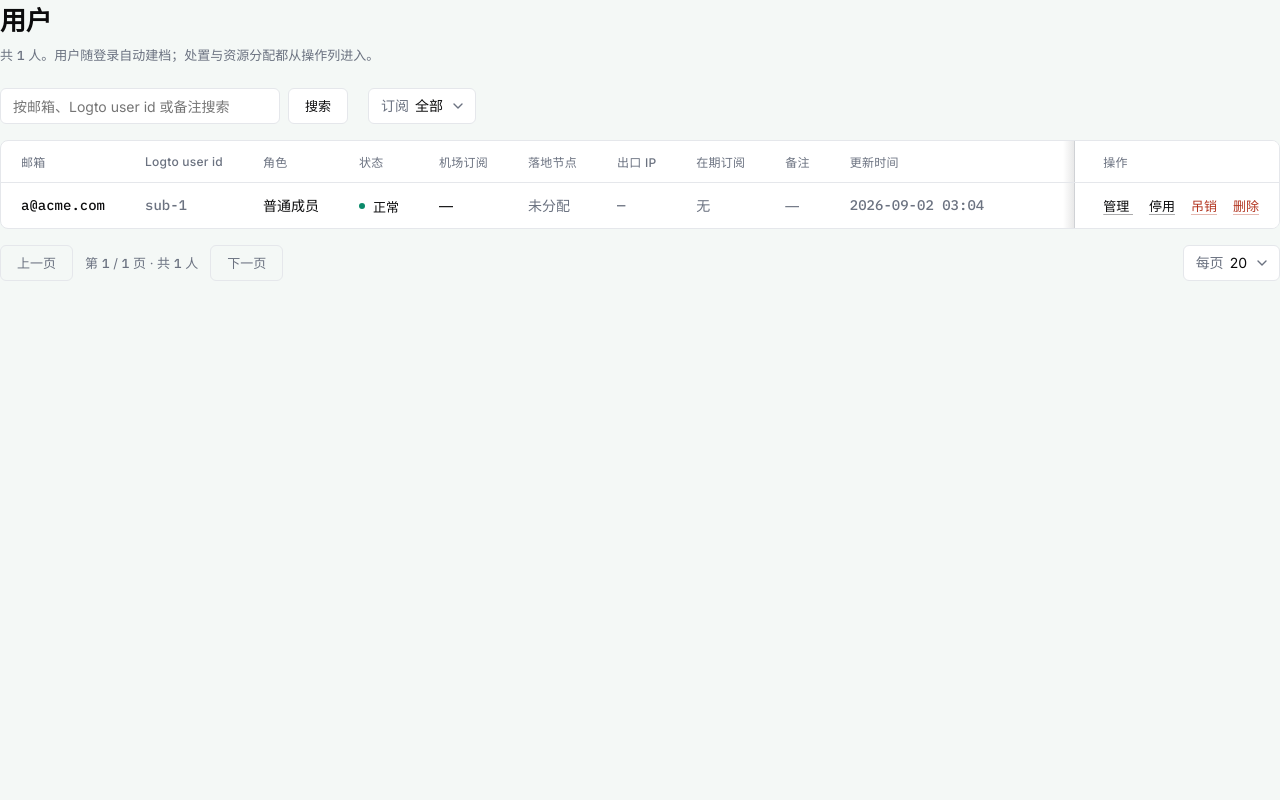
Scenario: UsersView 吊销 › 吊销是终态，走二次确认，并把「不可恢复」说在确认框里
The image size is (1280, 800).
Click the button "吊销".
click(1204, 205)  # box x1=1191 y1=196 x2=1217 y2=215
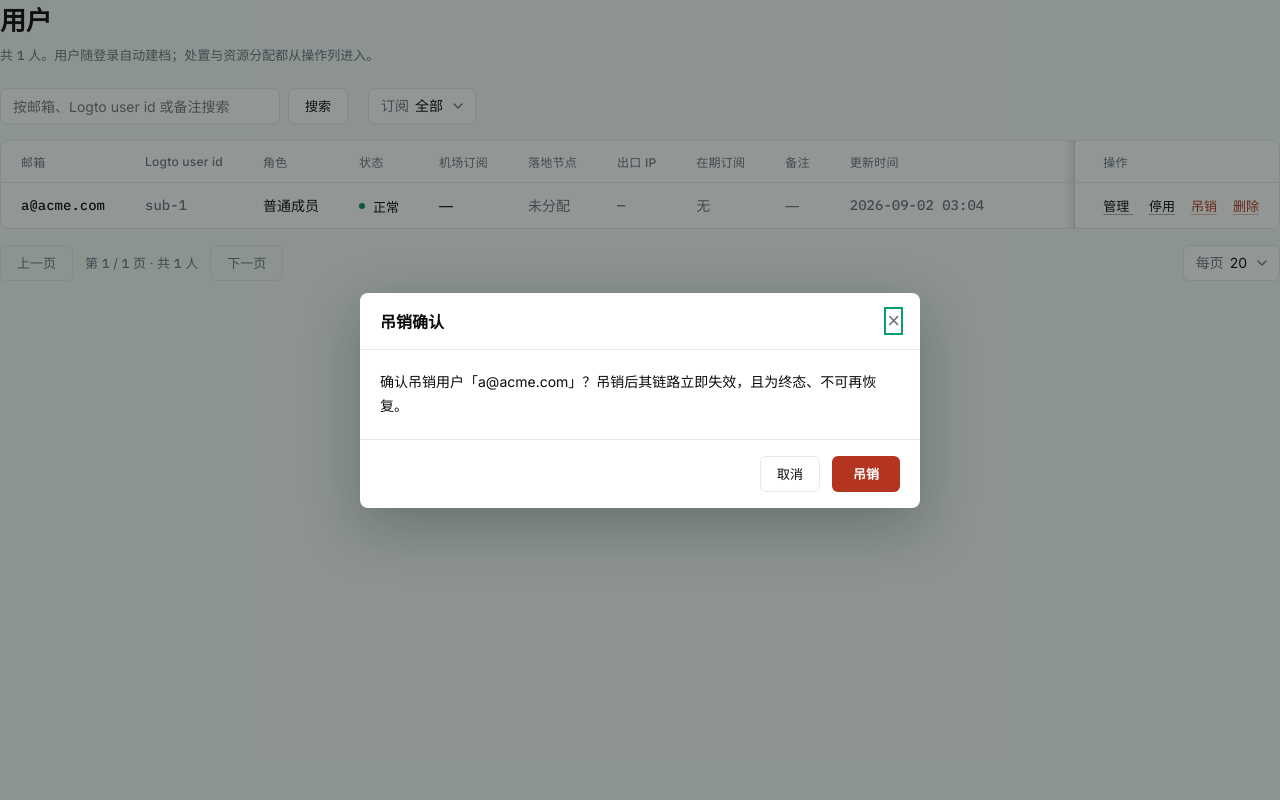
Expected: the heading "吊销确认" is shown, x1=380 y1=308 x2=444 y2=332
